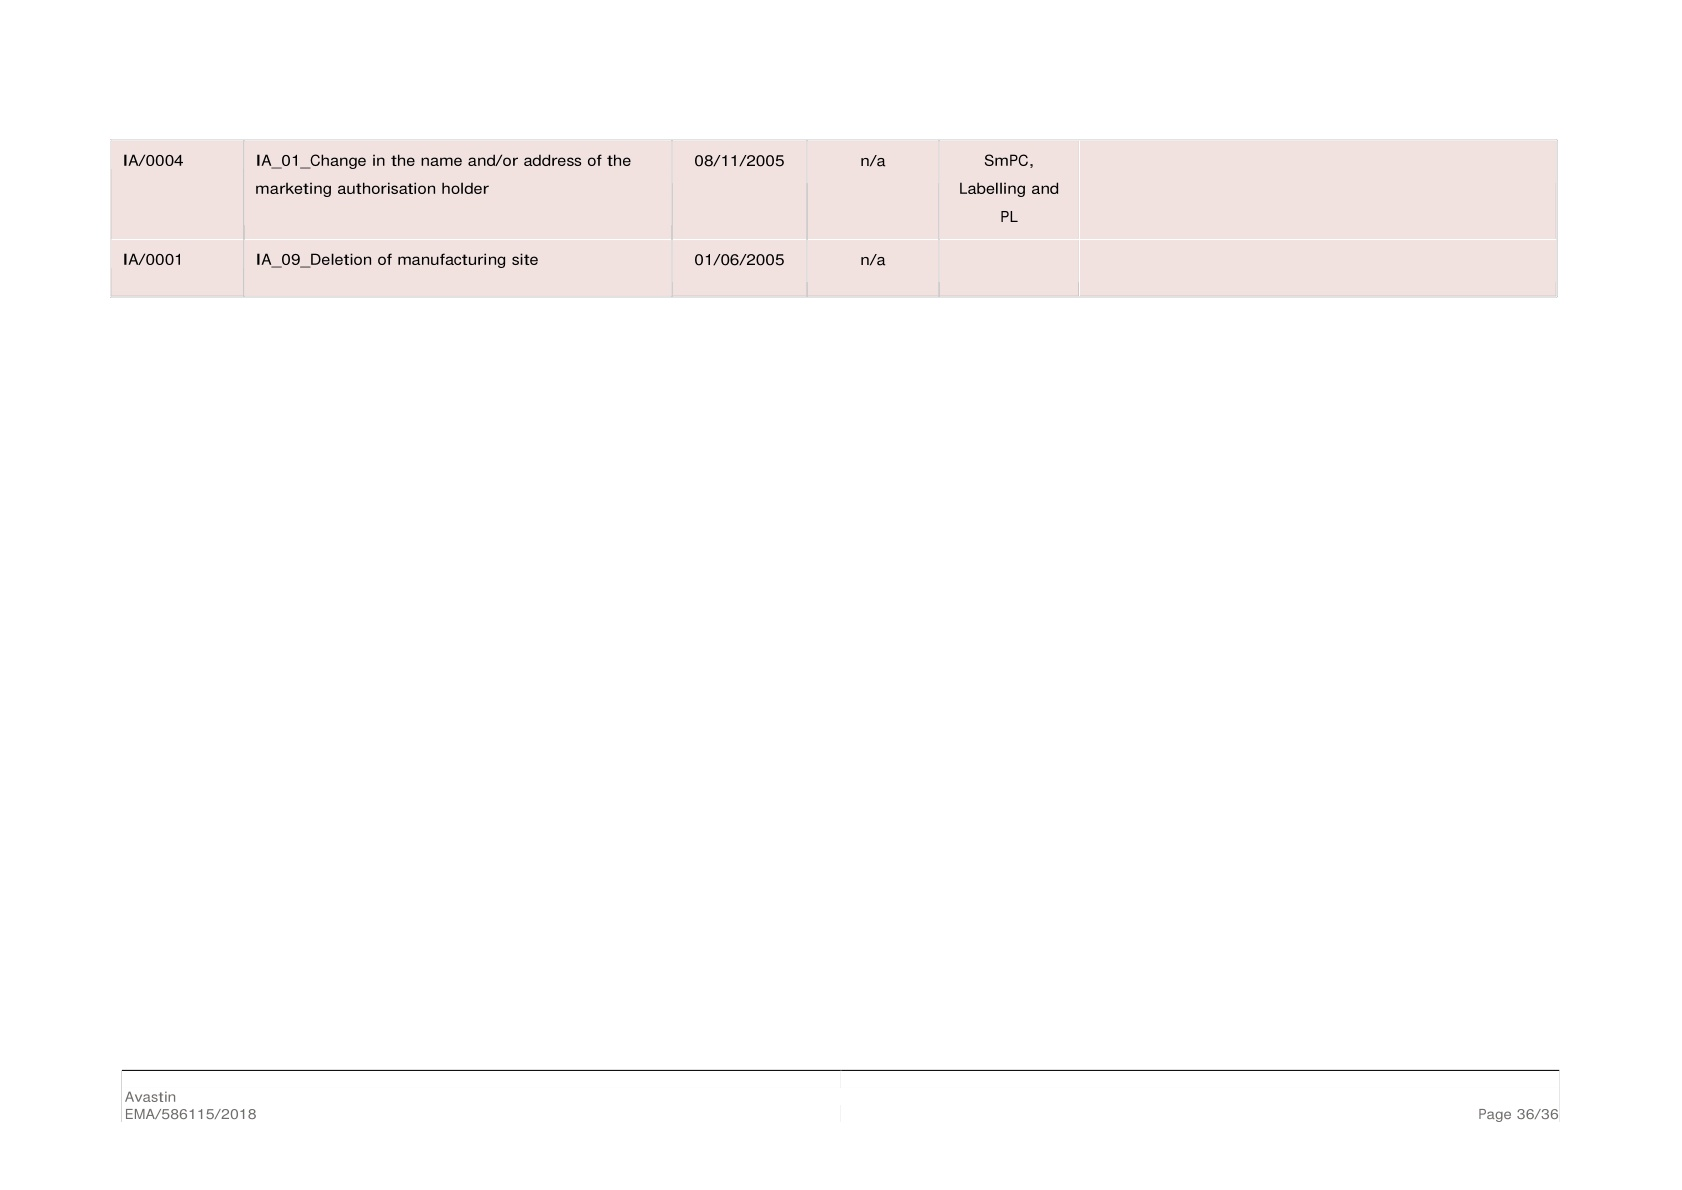full_lined: (109, 138, 1558, 297)
